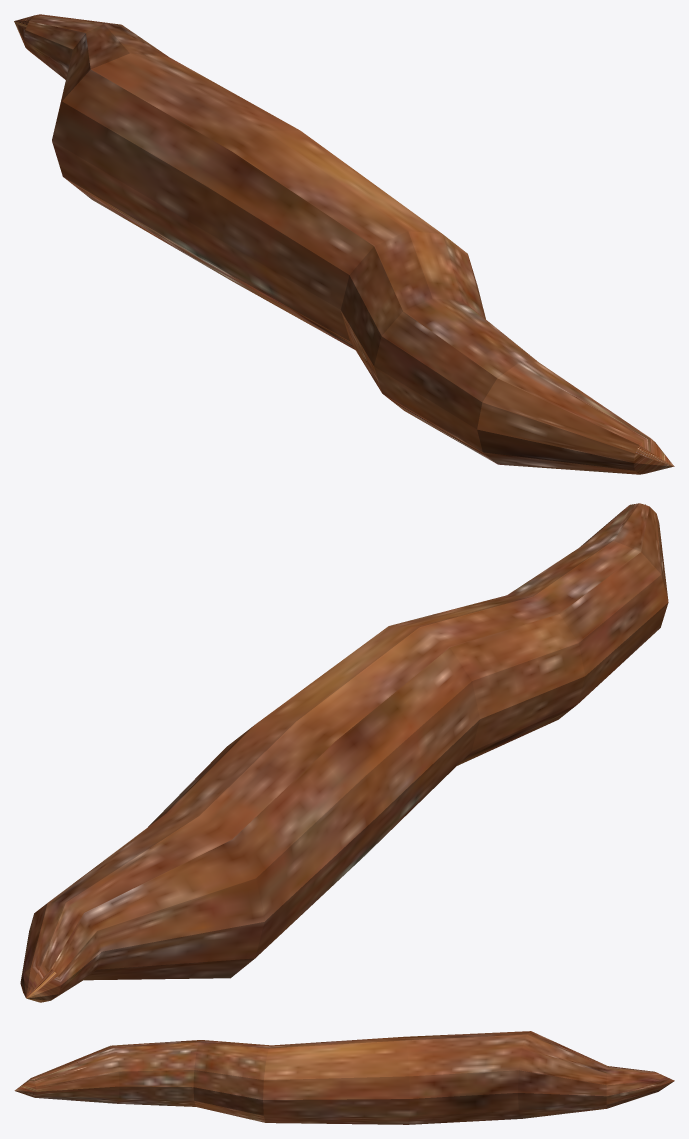
The model's file is poop2.fbx.
3 views of the same model, one above another, from view 1: azimuth 30°, elevation 25°; view 2: azimuth 150°, elevation 25°; view 3: azimuth 270°, elevation 25° (orthographic). The views are drawn at different scales.
Parts seen in each view (by area): view 1: Cube; view 2: Cube; view 3: Cube.
Boxes of the visible parts, x1,y1,x2,y2 form: Cube: [14, 14, 674, 474]; Cube: [20, 503, 668, 1002]; Cube: [14, 1031, 674, 1124].
Bounding box in the file's own units: 31.87 × 27.2 × 203.
1 material, 1 textured.
